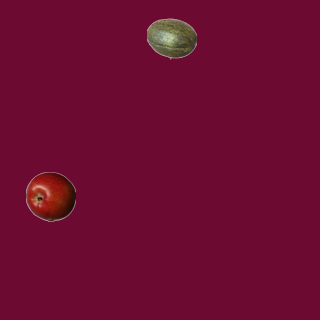Apple Braeburn: (25, 171, 75, 221)
Melon Piel de Sapo: (146, 13, 196, 63)
